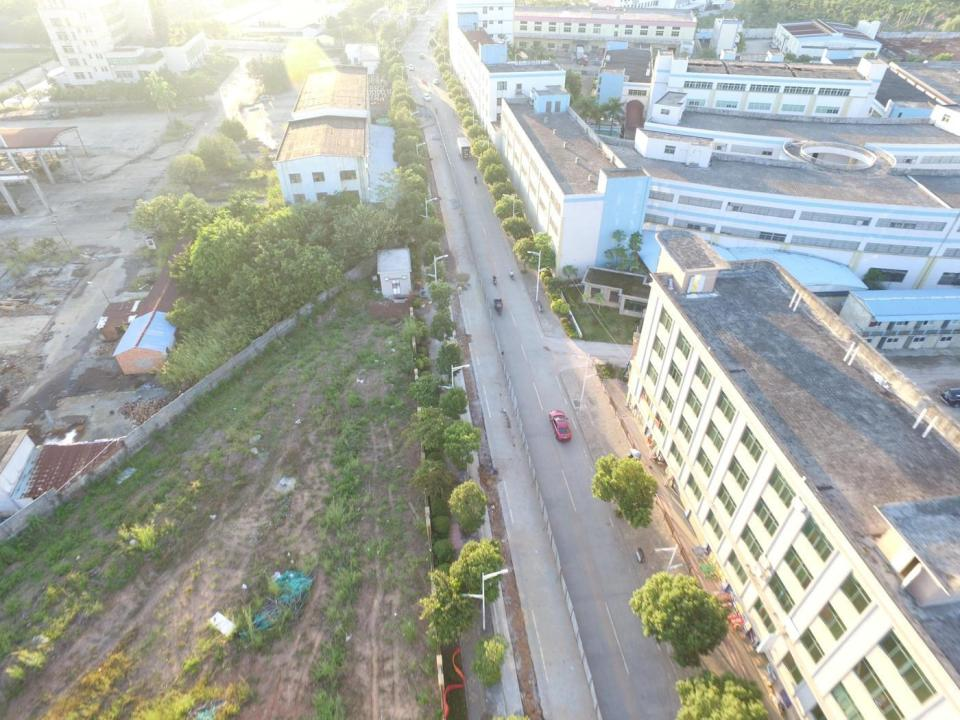car: (548, 410, 572, 442), (939, 387, 960, 407), (422, 93, 432, 102), (434, 78, 440, 85), (419, 52, 424, 60), (430, 24, 435, 32), (408, 64, 414, 70)
truck: (456, 137, 472, 159), (575, 46, 589, 66)
